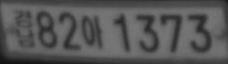1: (112, 11, 134, 52)
2: (58, 10, 82, 50)
3: (187, 13, 213, 53), (135, 13, 160, 53)
7: (160, 13, 183, 53)
8: (36, 9, 58, 48)
경남_V: (11, 9, 36, 49)
아: (82, 13, 105, 49)
